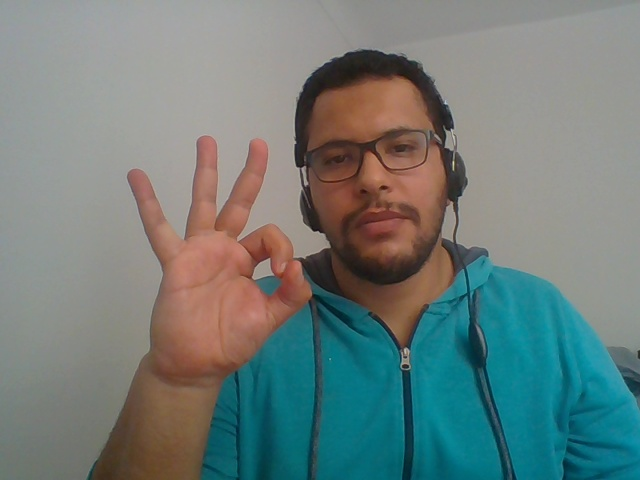okay: (109, 125, 315, 410)
